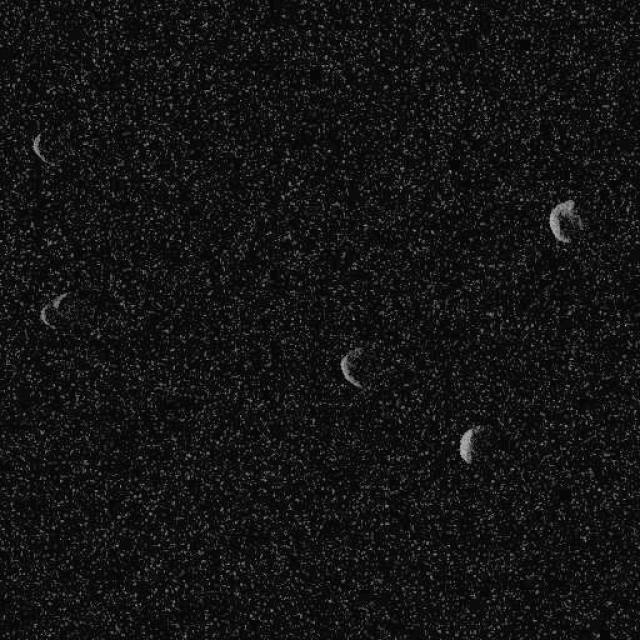D2: (548, 198, 582, 244), (338, 345, 368, 391), (38, 290, 68, 331), (30, 132, 55, 168), (458, 425, 478, 464)
